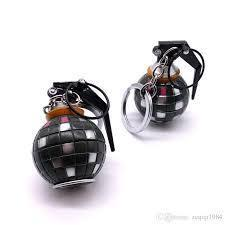Grenade: (30, 77, 114, 188), (132, 38, 204, 123)
